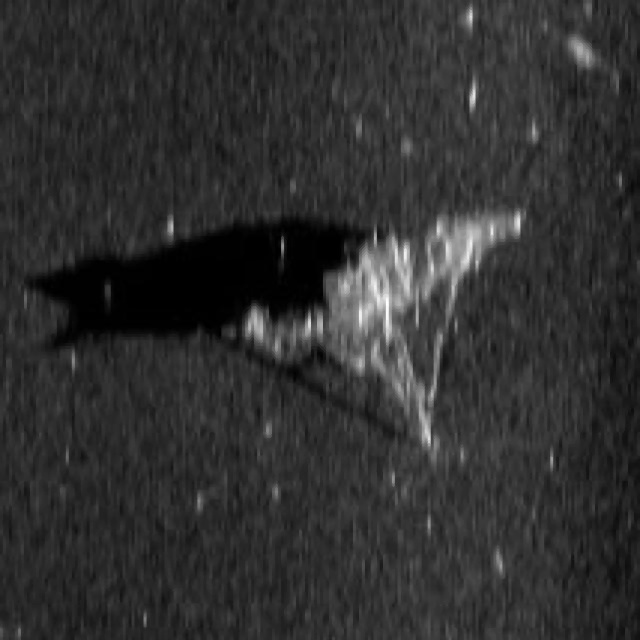Ship: (230, 191, 533, 465)
